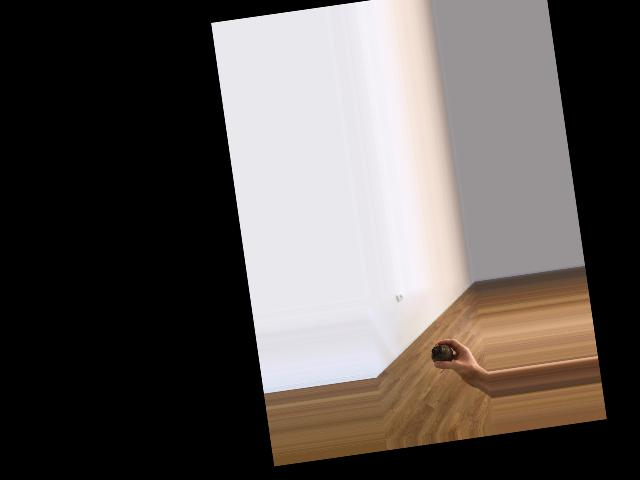beet: (429, 342, 455, 373)
